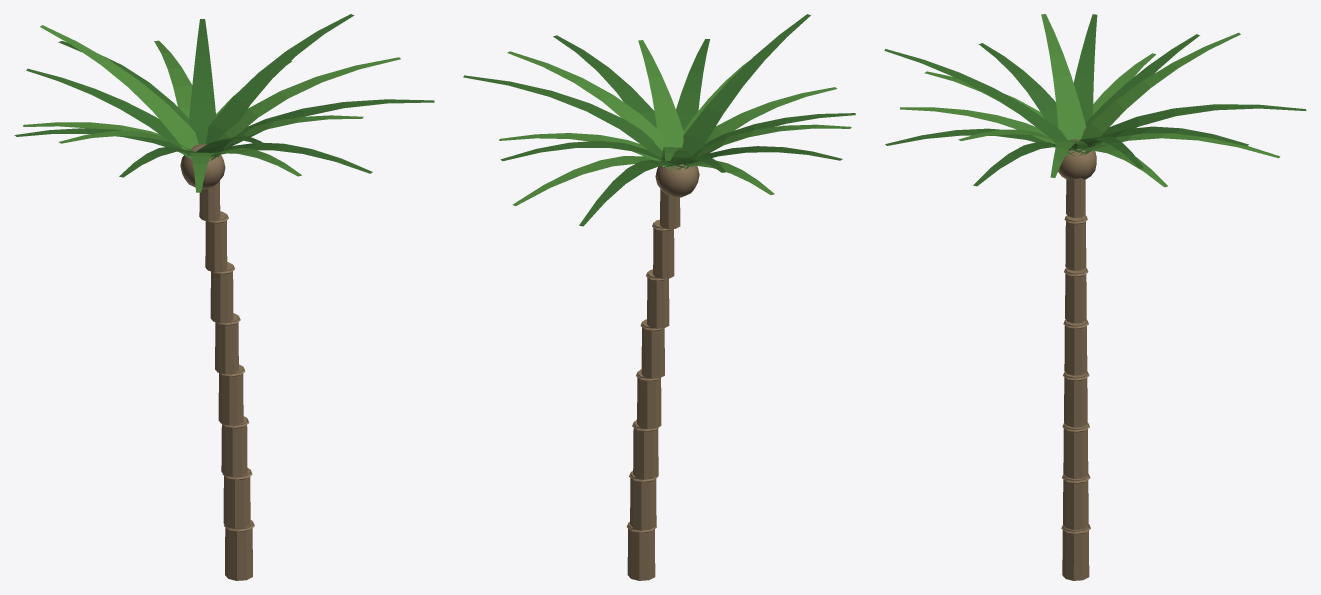
The model's file is palm_a.glb.
3 renders of one model, left to right at view 1: azimuth 30°, elevation 25°; view 2: azimuth 150°, elevation 25°; view 3: azimuth 270°, elevation 25°, orthographic. The views are drawn at different scales.
Parts seen in each view (by area): view 1: palm; view 2: palm; view 3: palm.
Boxes of the visible parts, x1,y1,x2,y2 form: palm: (14, 14, 434, 580); palm: (463, 14, 855, 580); palm: (884, 14, 1306, 580).
Bounding box in the file's own units: 9.23 × 12.55 × 9.75.
